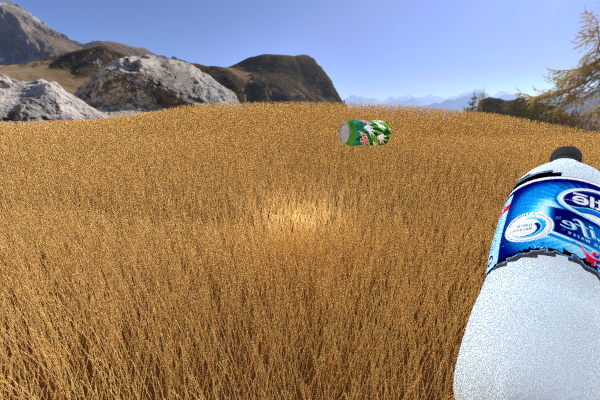Plastic Bottle: (453, 145, 600, 400), (339, 119, 390, 145)
